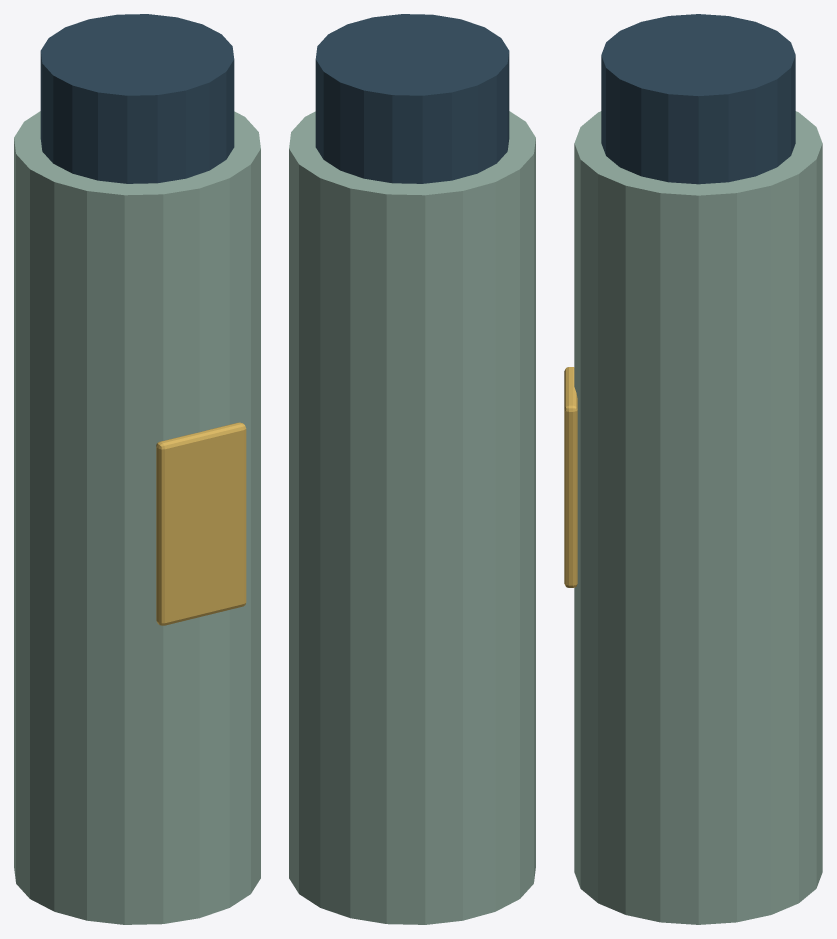
File: water_bottle.glb
3 views of the same model, side by side, from view 1: azimuth 30°, elevation 25°; view 2: azimuth 150°, elevation 25°; view 3: azimuth 270°, elevation 25° (orthographic).
Parts seen in each view (by area): view 1: water_bottle_Mesh; view 2: water_bottle_Mesh; view 3: water_bottle_Mesh.
Part boxes in pixels (x1,y1,x2,y2): water_bottle_Mesh: (14, 14, 260, 924); water_bottle_Mesh: (289, 14, 535, 924); water_bottle_Mesh: (564, 14, 822, 924).
Bounding box in the file's own units: 0.074 × 0.269 × 0.077.
